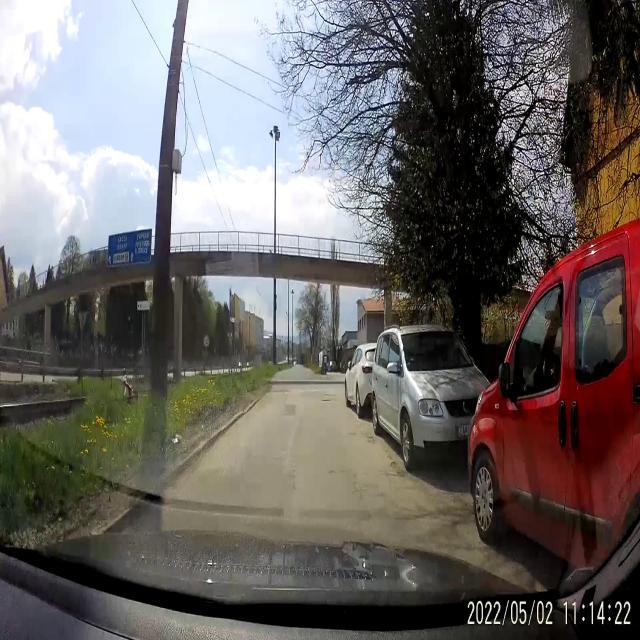Pothole: (390, 458, 404, 479), (320, 396, 333, 408), (366, 432, 376, 446)
